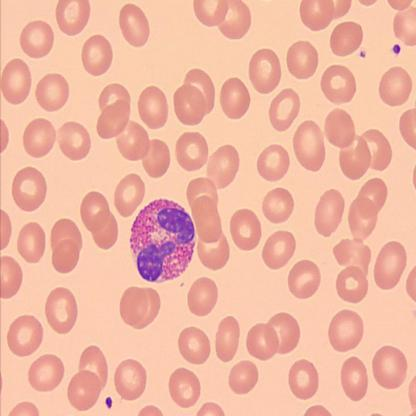Eosinophil: (131, 198, 197, 282)
